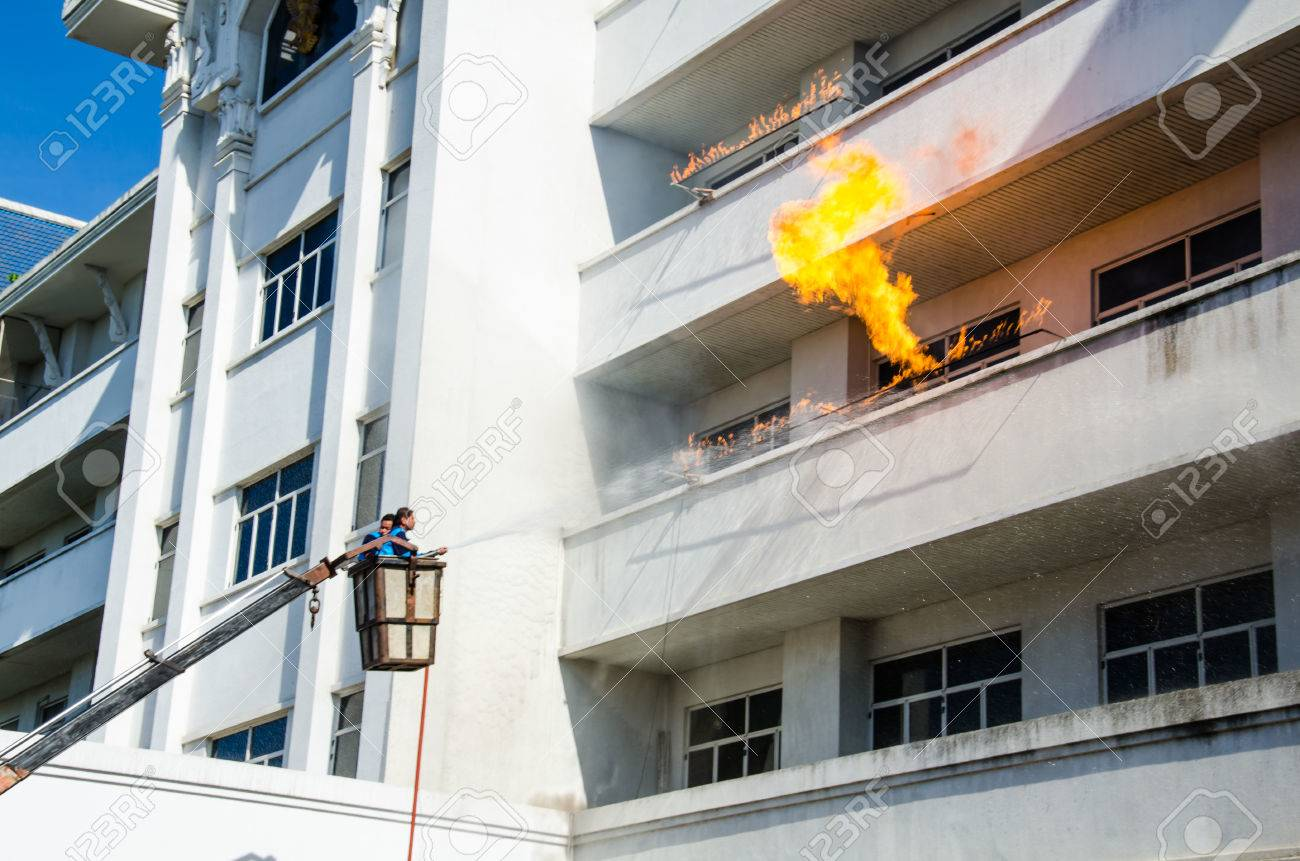fire: (777, 177, 939, 374)
